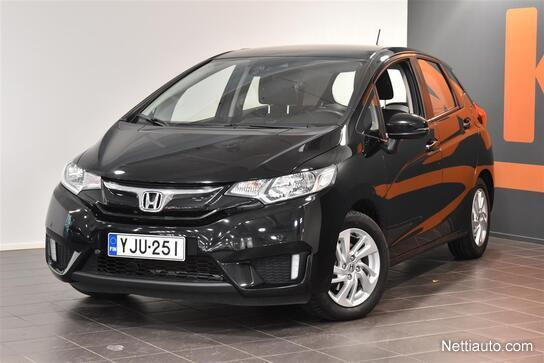Hatchback: (33, 36, 498, 332)
